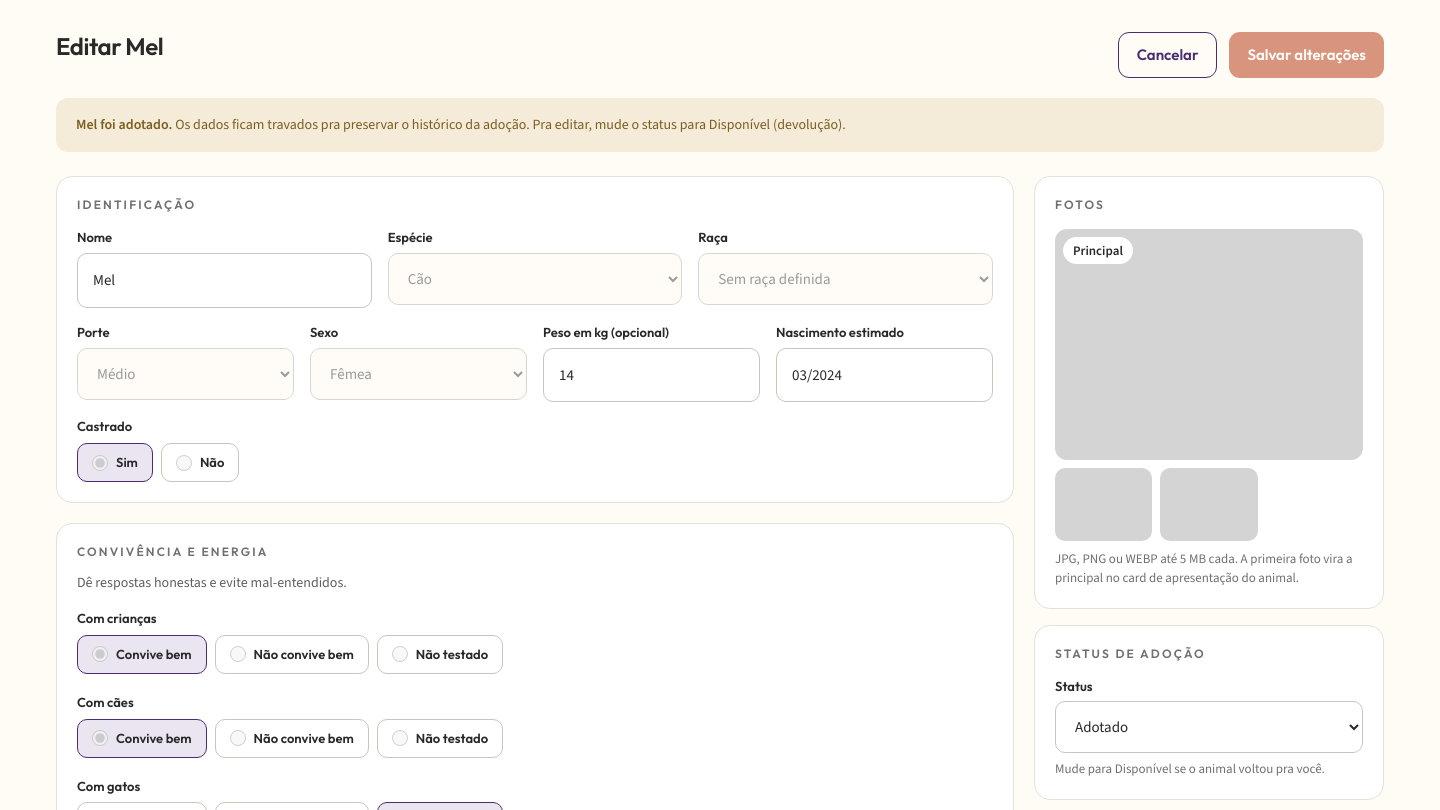
Test case: animal adotado (RF06) › voltar pra Disponível destrava os campos e pede confirmação antes de salvar
Expected: the heading "Editar Mel" is shown, [56,32,163,61]
Select "Disponível (devolução)" in the dropdown labelled "Status" at (1209, 728), box [1055,702,1363,754]
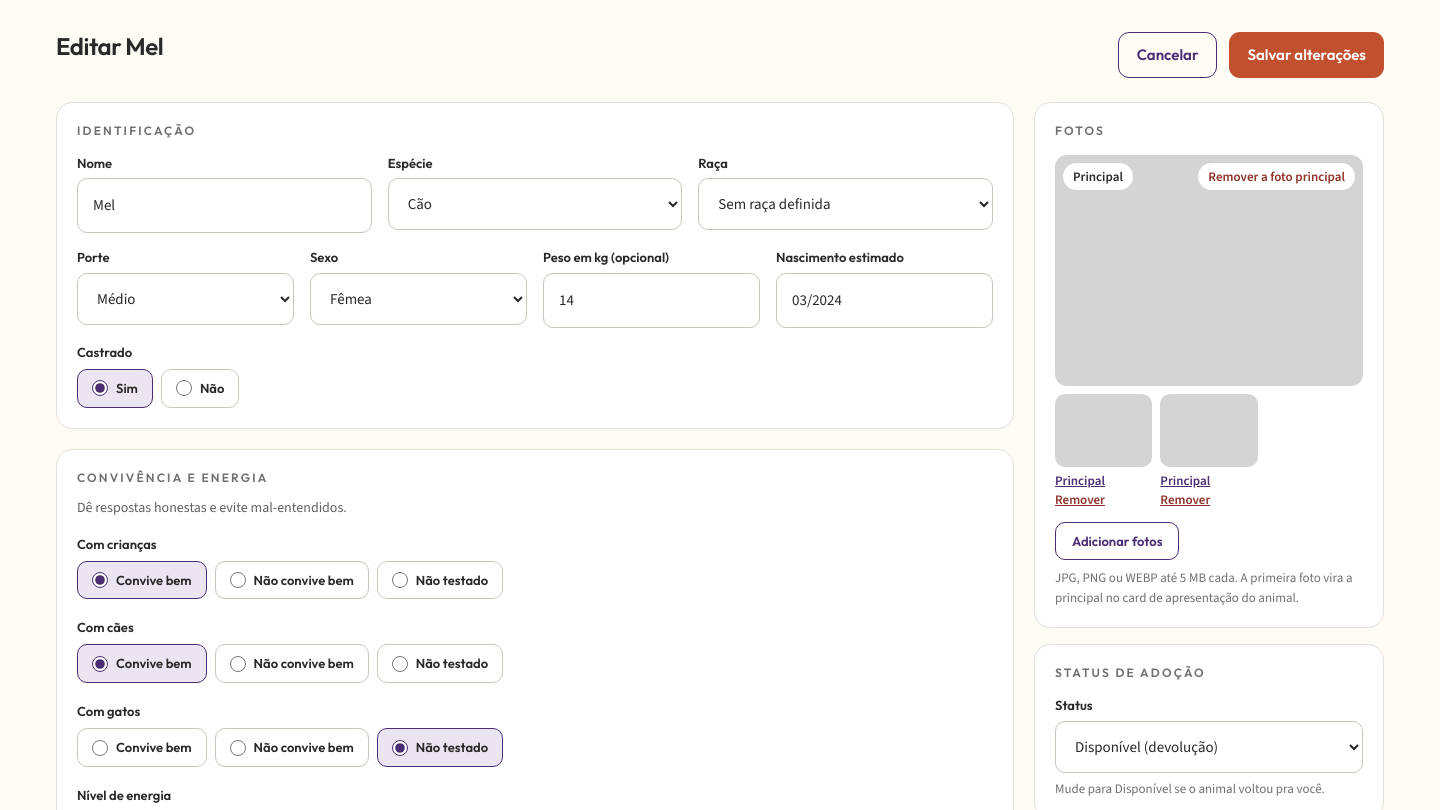
Expected: the field labelled "Nome" is enabled, [77,178,372,233]
Click the button "Salvar alterações" at (1307, 55), box [1229,32,1384,78]
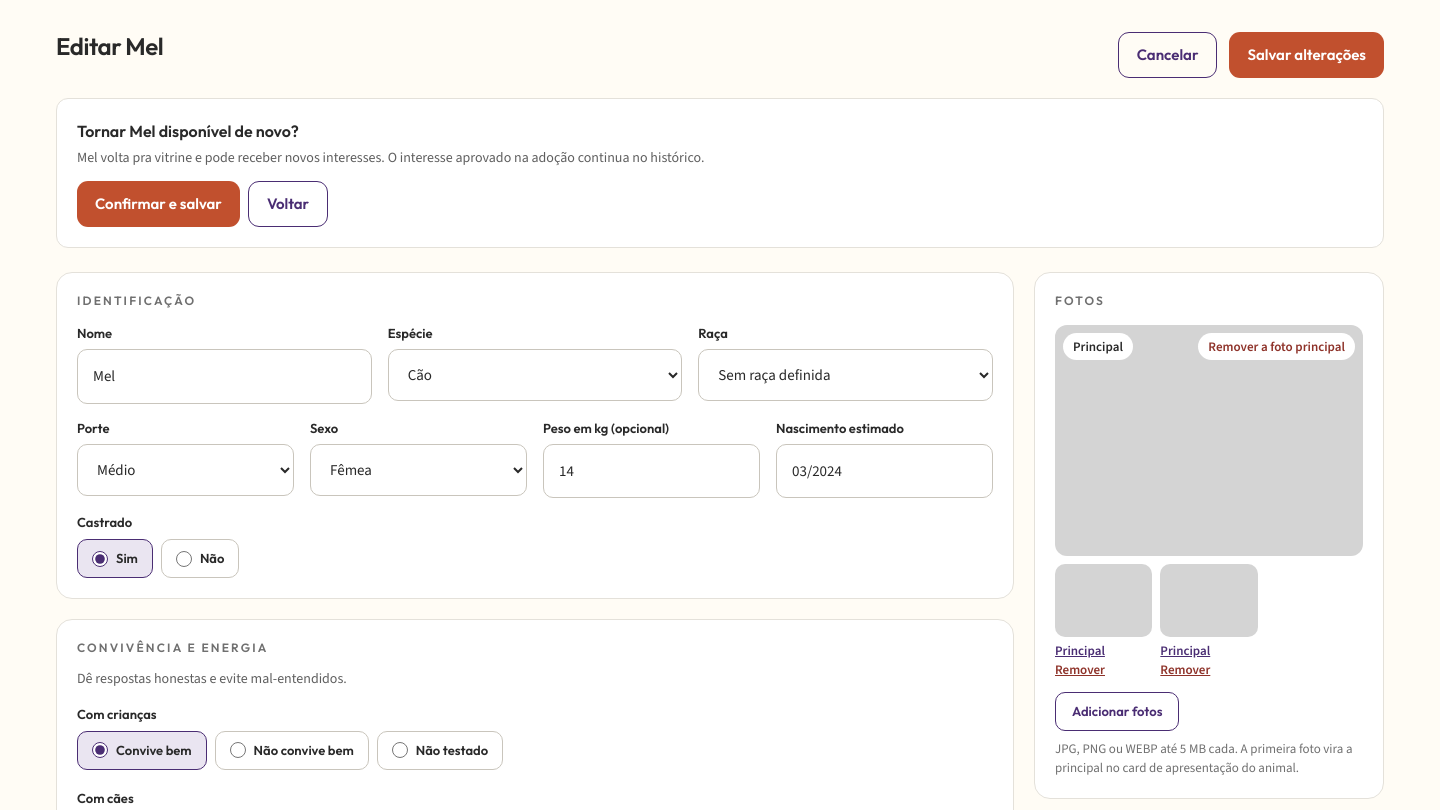
Expected: the text "Tornar Mel disponível de novo?" is shown, [77,121,299,141]
Click the button "Confirmar e salvar" at (158, 204), box [77,181,240,227]
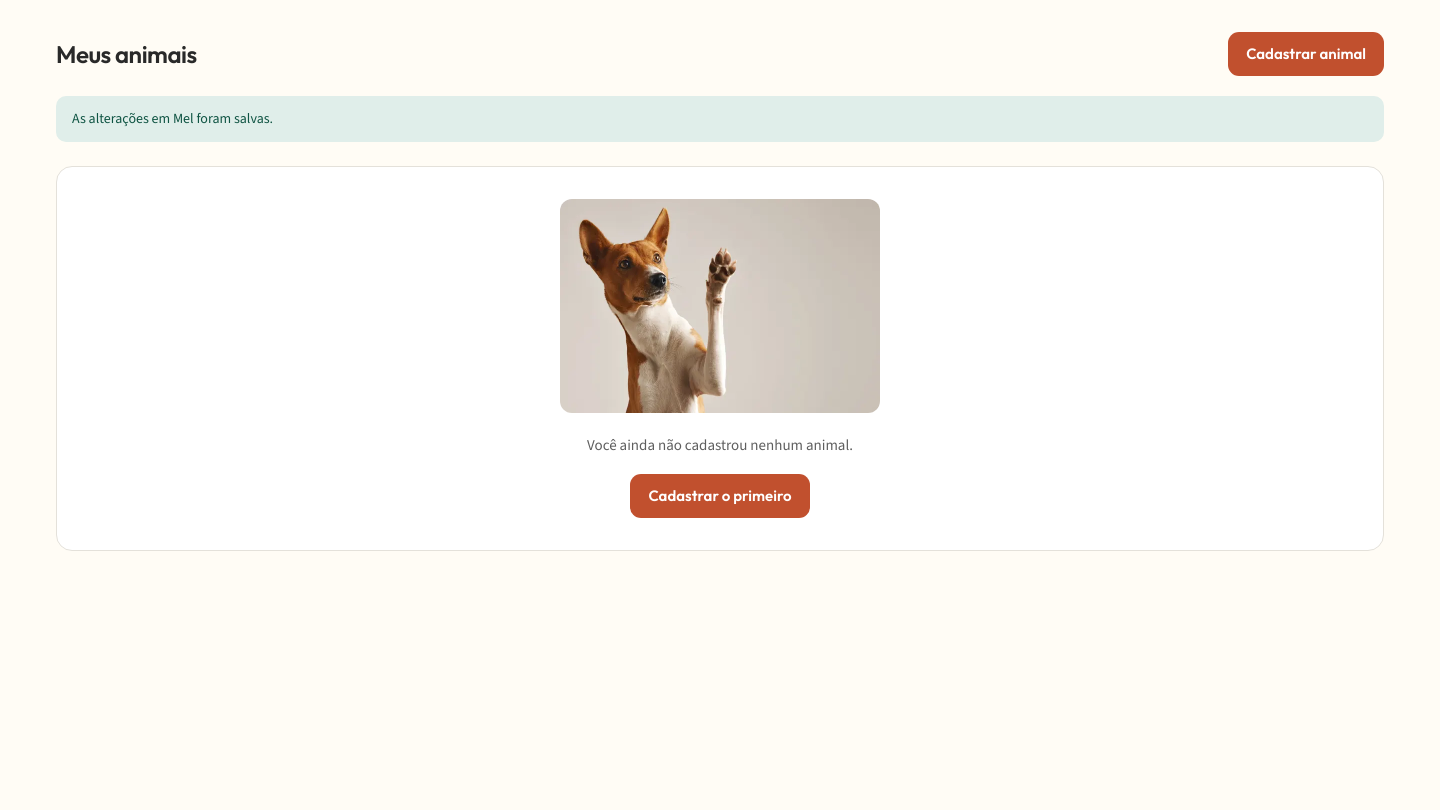
Expected: the text "As alterações em Mel foram salvas." is shown, [56,96,1384,142]
